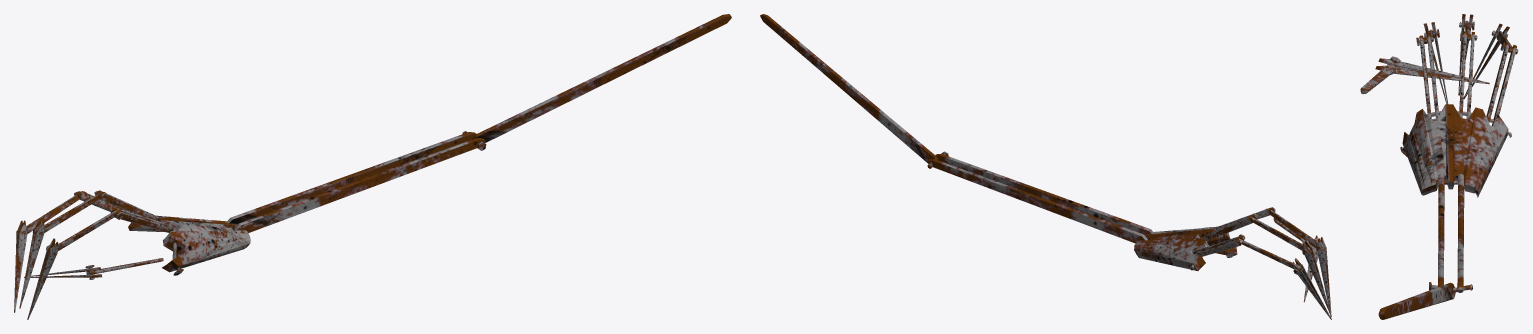
The model's file is maos_olho_nova.fbx.
The picture shows the model from 3 angles, left to right: view 1: azimuth 30°, elevation 25°; view 2: azimuth 150°, elevation 25°; view 3: azimuth 270°, elevation 25°; orthographic projection. The views are drawn at different scales.
Visible parts, largest first — view 1: Cubo.025; view 2: Cubo.025; view 3: Cubo.025.
Boxes of the visible parts, left/top/right/bottom form: Cubo.025: left=14, top=14, right=731, bottom=319; Cubo.025: left=760, top=14, right=1331, bottom=319; Cubo.025: left=1360, top=14, right=1518, bottom=319.
Size of the model in its own units: 1640 by 369 by 271.
